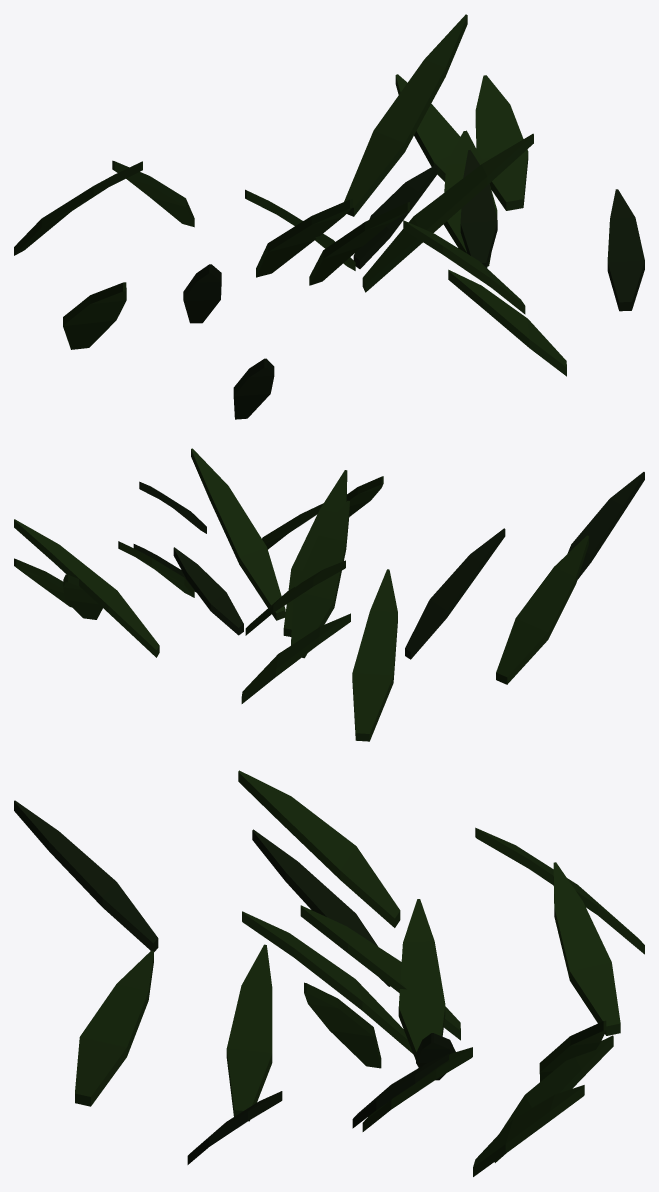
The model's file is NatureGrass.obj.
3 renders of one model, top to bottom at view 1: azimuth 30°, elevation 25°; view 2: azimuth 150°, elevation 25°; view 3: azimuth 270°, elevation 25°, orthographic. The views are drawn at different scales.
Visible parts, largest first — view 1: curved_grass_blade.013, curved_grass_blade.005, curved_grass_blade.011, curved_grass_blade.016, curved_grass_blade.014, curved_grass_blade.007, curved_grass_blade.015, curved_grass_blade.008, curved_grass_blade.010, curved_grass_blade, curved_grass_blade.006, curved_grass_blade.001 (+6 smaller); view 2: curved_grass_blade.002, curved_grass_blade.007, curved_grass_blade.005, curved_grass_blade.015, curved_grass_blade.013, curved_grass_blade.004, curved_grass_blade.012, curved_grass_blade, curved_grass_blade.009, curved_grass_blade.010, curved_grass_blade.017, curved_grass_blade.006 (+5 smaller); view 3: curved_grass_blade.014, curved_grass_blade.007, curved_grass_blade.009, curved_grass_blade.001, curved_grass_blade.017, curved_grass_blade.012, curved_grass_blade.010, curved_grass_blade.004, curved_grass_blade.015, curved_grass_blade.005, curved_grass_blade.011, curved_grass_blade.006 (+6 smaller).
Boxes of the visible parts, left/top/right/bottom form: curved_grass_blade.013: left=344, top=14, right=467, bottom=216; curved_grass_blade.005: left=362, top=133, right=533, bottom=292; curved_grass_blade.011: left=475, top=75, right=528, bottom=210; curved_grass_blade.016: left=607, top=189, right=644, bottom=311; curved_grass_blade.014: left=448, top=269, right=566, bottom=376; curved_grass_blade.007: left=63, top=282, right=126, bottom=349; curved_grass_blade.015: left=256, top=198, right=352, bottom=277; curved_grass_blade.008: left=460, top=150, right=497, bottom=267; curved_grass_blade.010: left=309, top=202, right=409, bottom=285; curved_grass_blade: left=353, top=164, right=437, bottom=268; curved_grass_blade.006: left=395, top=74, right=460, bottom=181; curved_grass_blade.001: left=403, top=220, right=525, bottom=314; curved_grass_blade.002: left=352, top=569, right=397, bottom=741; curved_grass_blade.007: left=496, top=535, right=588, bottom=684; curved_grass_blade.005: left=191, top=448, right=285, bottom=620; curved_grass_blade.015: left=291, top=500, right=349, bottom=658; curved_grass_blade.013: left=14, top=519, right=159, bottom=657; curved_grass_blade.004: left=405, top=528, right=505, bottom=659; curved_grass_blade.012: left=567, top=472, right=644, bottom=579; curved_grass_blade: left=173, top=547, right=243, bottom=635; curved_grass_blade.009: left=241, top=613, right=350, bottom=703; curved_grass_blade.010: left=283, top=470, right=347, bottom=636; curved_grass_blade.017: left=245, top=560, right=345, bottom=635; curved_grass_blade.006: left=63, top=574, right=102, bottom=619; curved_grass_blade.014: left=75, top=950, right=153, bottom=1106; curved_grass_blade.007: left=238, top=770, right=400, bottom=927; curved_grass_blade.009: left=553, top=862, right=620, bottom=1035; curved_grass_blade.001: left=226, top=944, right=272, bottom=1121; curved_grass_blade.017: left=398, top=899, right=445, bottom=1059; curved_grass_blade.012: left=14, top=800, right=158, bottom=951; curved_grass_blade.010: left=242, top=911, right=413, bottom=1054; curved_grass_blade.004: left=252, top=829, right=389, bottom=986; curved_grass_blade.015: left=300, top=905, right=460, bottom=1040; curved_grass_blade.005: left=304, top=982, right=381, bottom=1068; curved_grass_blade.011: left=473, top=1085, right=584, bottom=1176; curved_grass_blade.006: left=494, top=1035, right=613, bottom=1162.
Bounding box in the file's own units: 0.6301 × 0.1647 × 0.5906.
